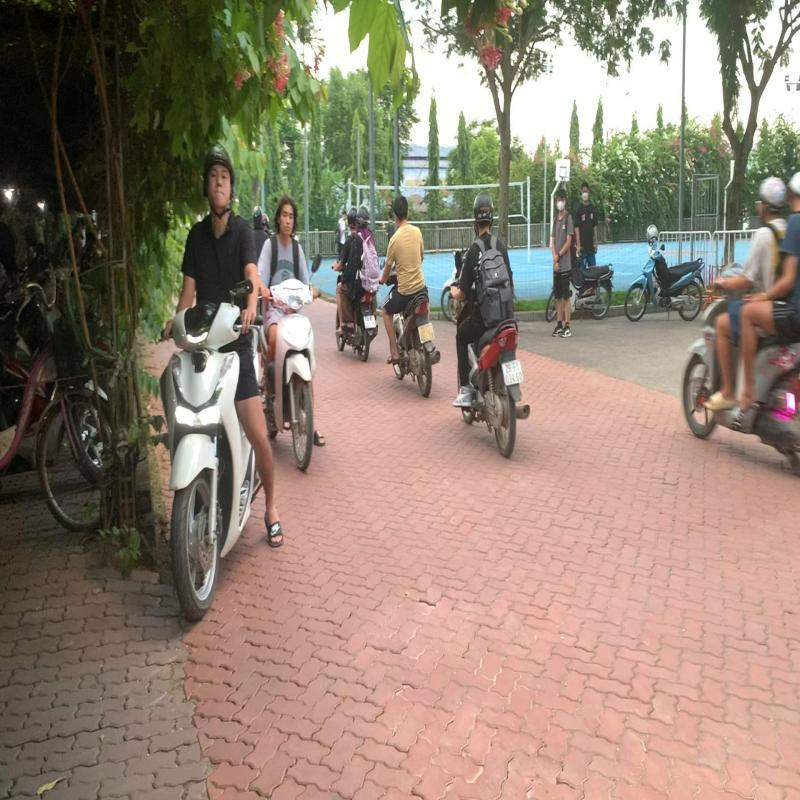nohelmet: (393, 193, 409, 224)
